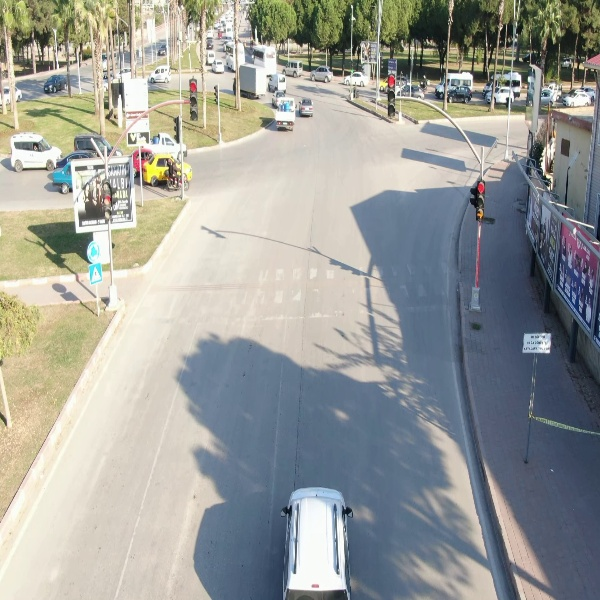car: (8, 129, 65, 172), (442, 84, 474, 106), (342, 69, 374, 90), (484, 85, 515, 106), (147, 62, 175, 85), (562, 88, 594, 108), (41, 72, 67, 96), (306, 65, 337, 84), (297, 95, 318, 121), (282, 59, 306, 79)
